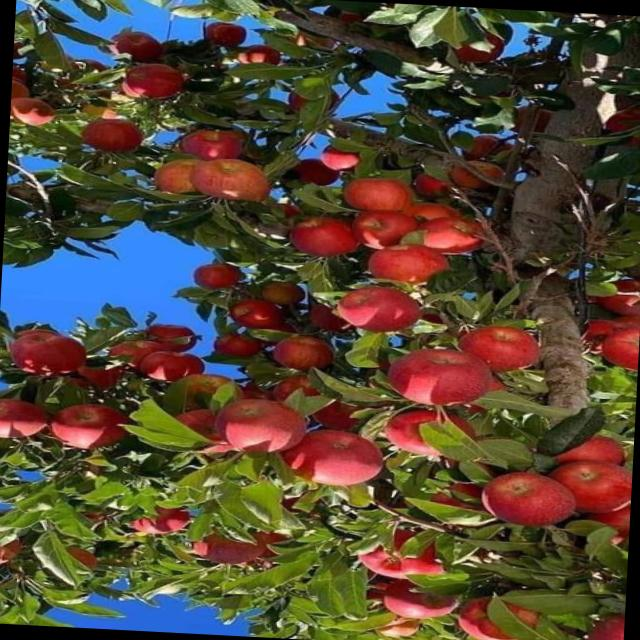Chuc: (601, 105, 640, 156)
Tao: (282, 422, 399, 484), (384, 344, 488, 409), (358, 238, 463, 298), (381, 404, 484, 462), (346, 534, 463, 582), (458, 588, 561, 640), (218, 397, 318, 450), (446, 318, 542, 372), (336, 282, 431, 332), (372, 574, 478, 618), (184, 156, 284, 202), (203, 518, 291, 570), (51, 396, 126, 452), (10, 324, 86, 376), (558, 462, 632, 514), (267, 327, 349, 373), (406, 218, 492, 260), (493, 476, 571, 522), (560, 428, 634, 476), (130, 497, 202, 543), (354, 170, 418, 220), (176, 123, 256, 163), (0, 391, 55, 448), (347, 210, 418, 250), (150, 150, 203, 203), (452, 158, 526, 194), (287, 218, 355, 257), (74, 120, 140, 157), (180, 260, 262, 288), (594, 318, 640, 367), (134, 350, 198, 385), (120, 62, 182, 96), (10, 94, 68, 128), (92, 335, 157, 365), (398, 198, 457, 230), (140, 312, 198, 344), (234, 296, 290, 326), (226, 39, 278, 71), (320, 140, 368, 174), (574, 609, 624, 640), (106, 33, 163, 60), (73, 364, 117, 398), (584, 502, 630, 534), (266, 278, 316, 306), (195, 22, 252, 46), (464, 133, 506, 163), (221, 330, 254, 354)
